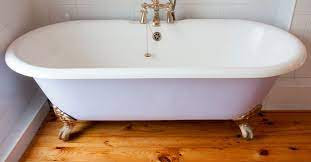bathub: (3, 12, 306, 142)
